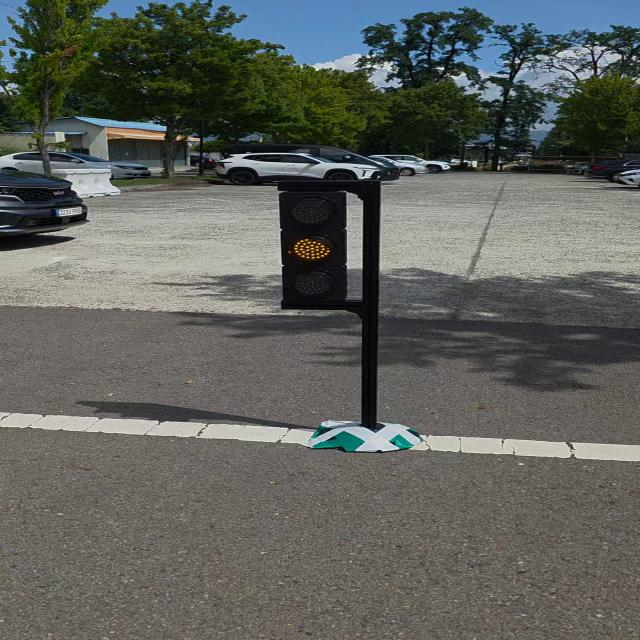yellow: (268, 179, 366, 310)
